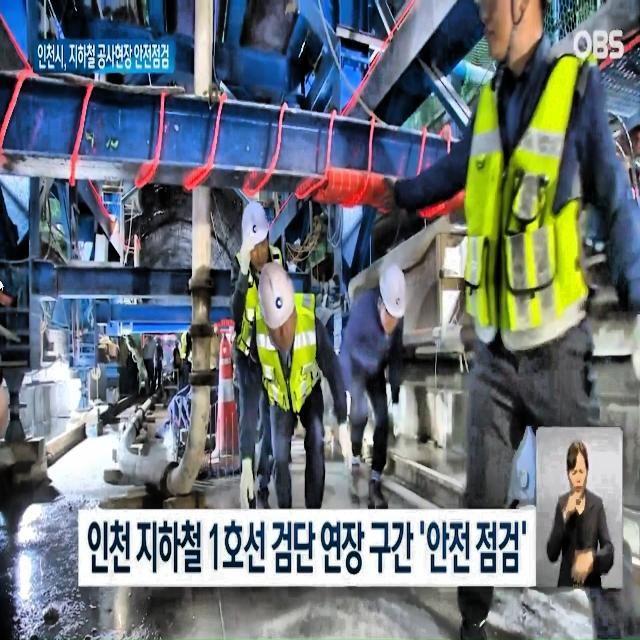safety_helmet: (235, 186, 279, 264), (255, 257, 299, 334), (369, 260, 407, 323)
safety_jacket: (466, 89, 598, 364), (243, 298, 331, 416)
